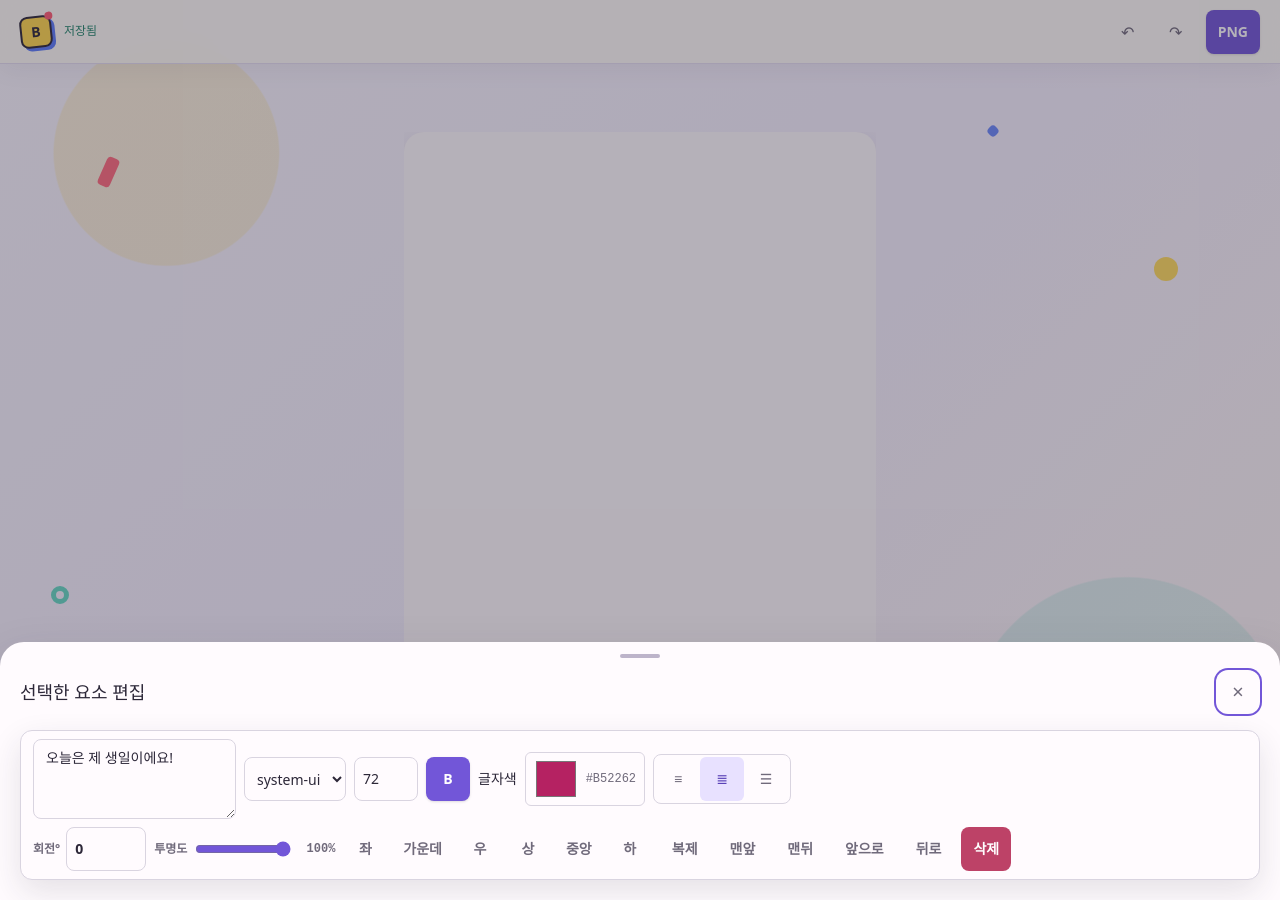
Test: EditorScreen responsive composition › 모바일 선택 속성은 focus를 받는 modal Bottom Sheet에서 닫을 수 있다
The width and height of the screenshot is (1280, 900).
expect the navigation bar named "모바일 편집 도구" is shown: met, box [0,836,1279,899]
Click the button named "속성 시트 닫기".
click(1238, 692)  # box [1216,670,1260,714]
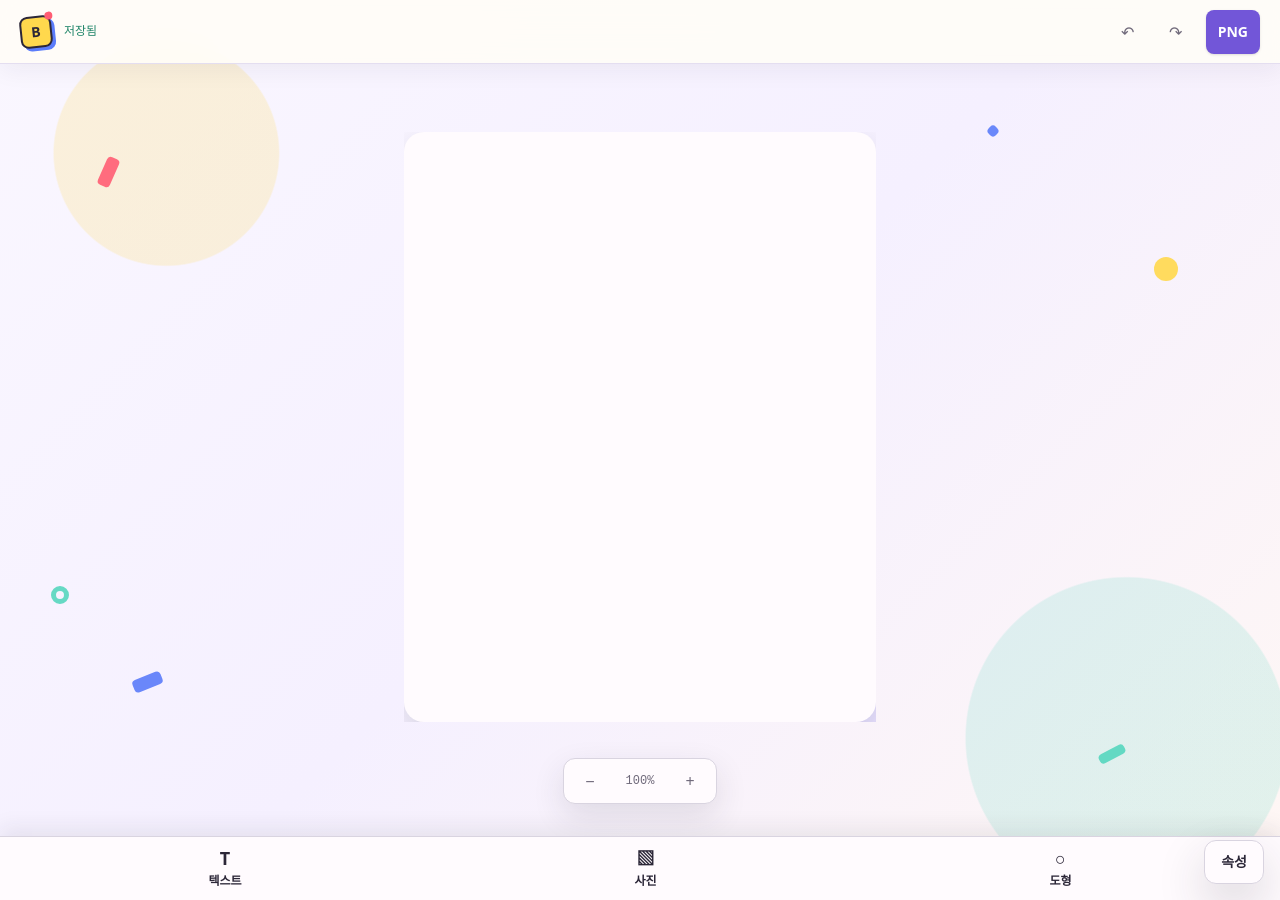
expect the heading "선택한 요소 편집" is gone: met
